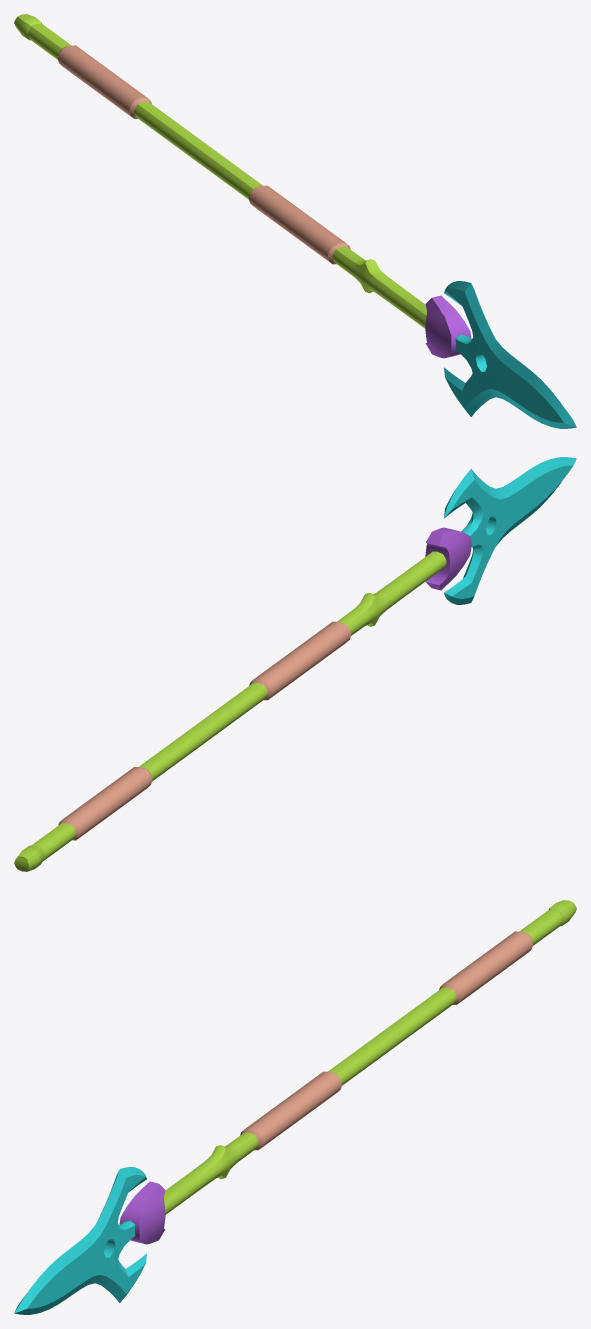
Rendered from JavelinGhostFBX.fbx.
The picture shows the model from 3 angles, top to bottom: view 1: azimuth 30°, elevation 25°; view 2: azimuth 150°, elevation 25°; view 3: azimuth 330°, elevation 25°; orthographic projection.
Visible parts, largest first — view 1: JavelinGhost; view 2: JavelinGhost; view 3: JavelinGhost.
Boxes of the visible parts, bbox=[...] form: JavelinGhost: bbox=[14, 14, 576, 428]; JavelinGhost: bbox=[14, 457, 576, 871]; JavelinGhost: bbox=[14, 900, 576, 1314].
Bounding box in the file's own units: 0.0687 × 2.65 × 0.3545.
